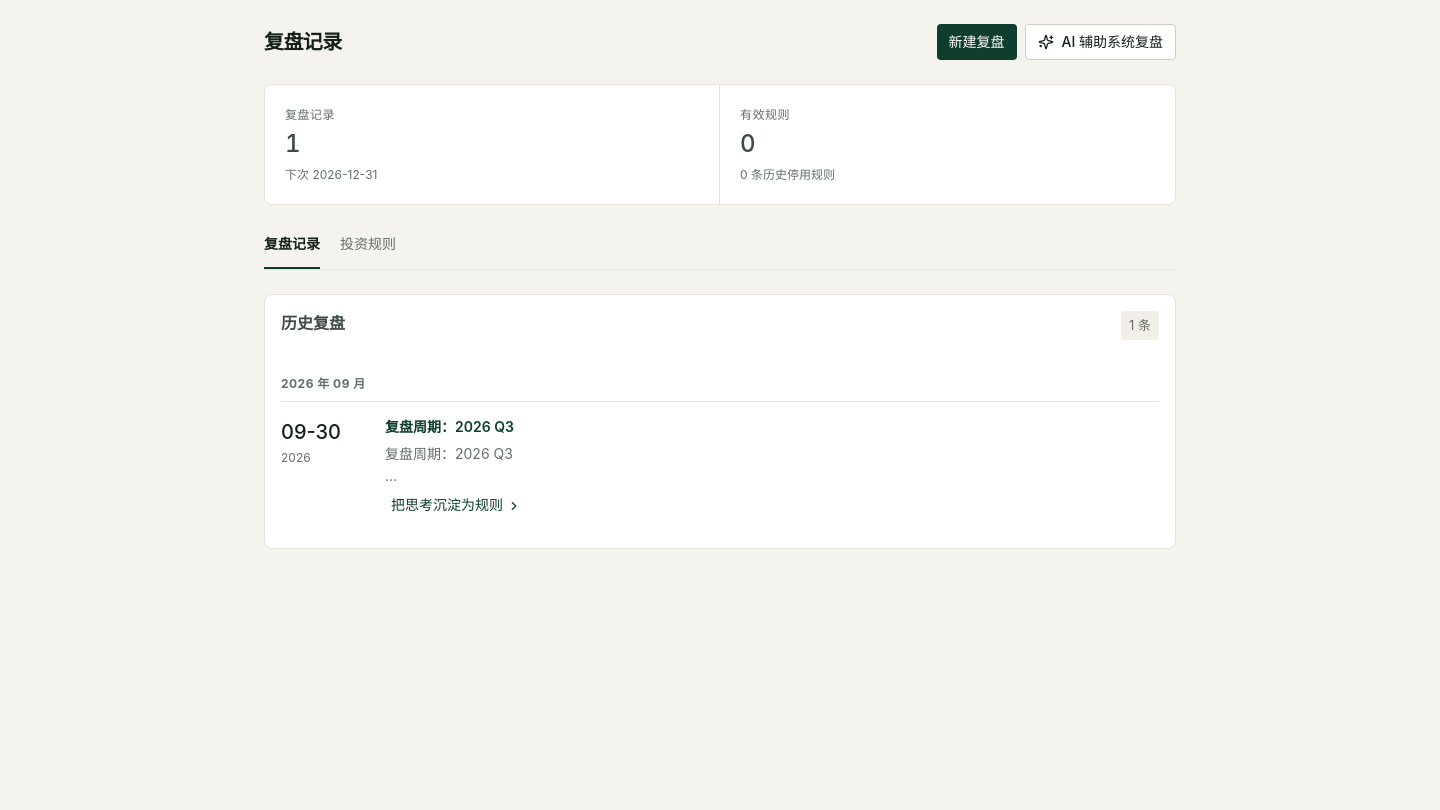
it: shows every legacy field together as plain text
Click the button "复盘周期：2026 Q3". click: (449, 427)
box: [385,416,514,438]
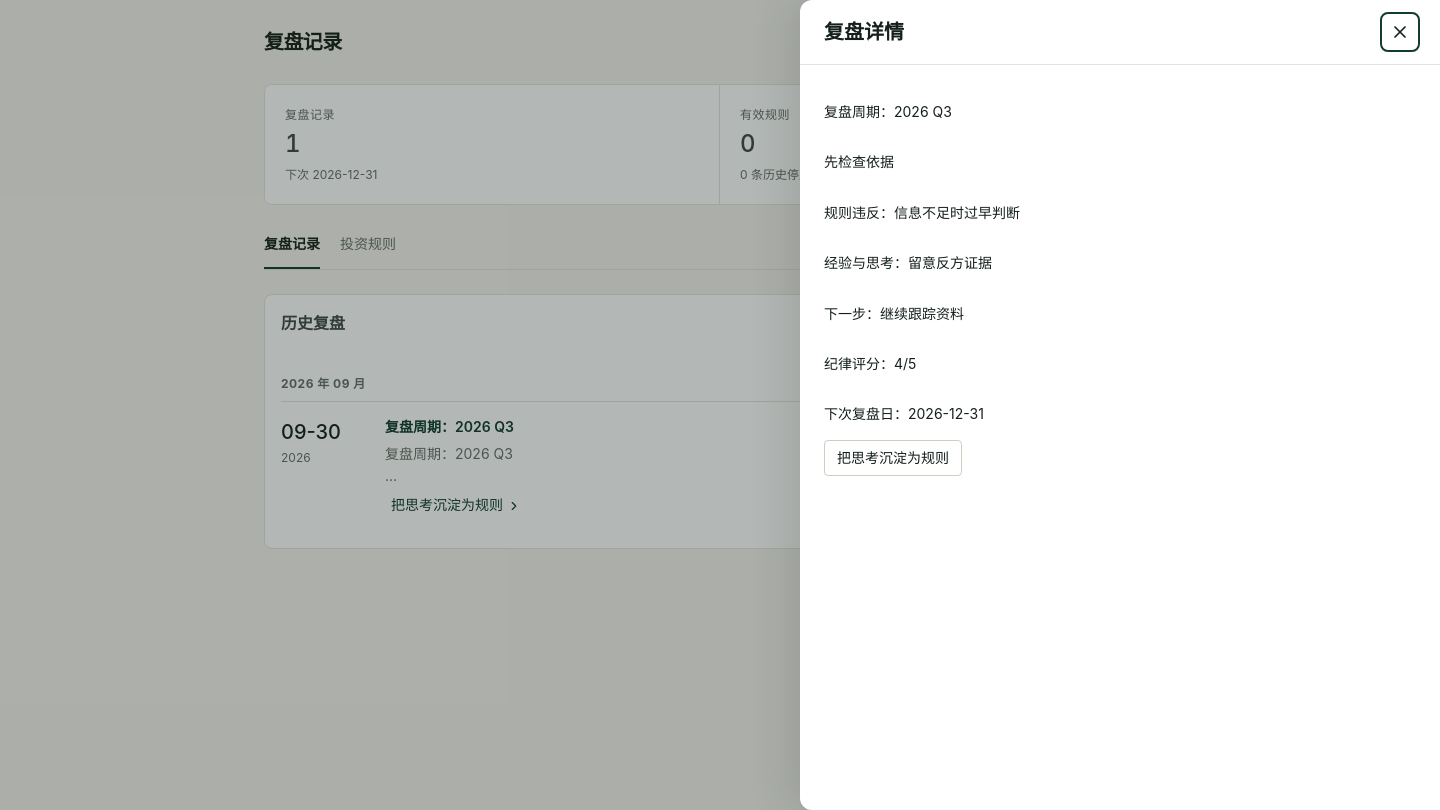
Expected: the text with class "detail-prose" shows "2026 Q3", [824,103,1020,422]
Expected: the text with class "detail-prose" shows "先检查依据", [824,103,1020,422]
Expected: the text with class "detail-prose" shows "信息不足时过早判断", [824,103,1020,422]
